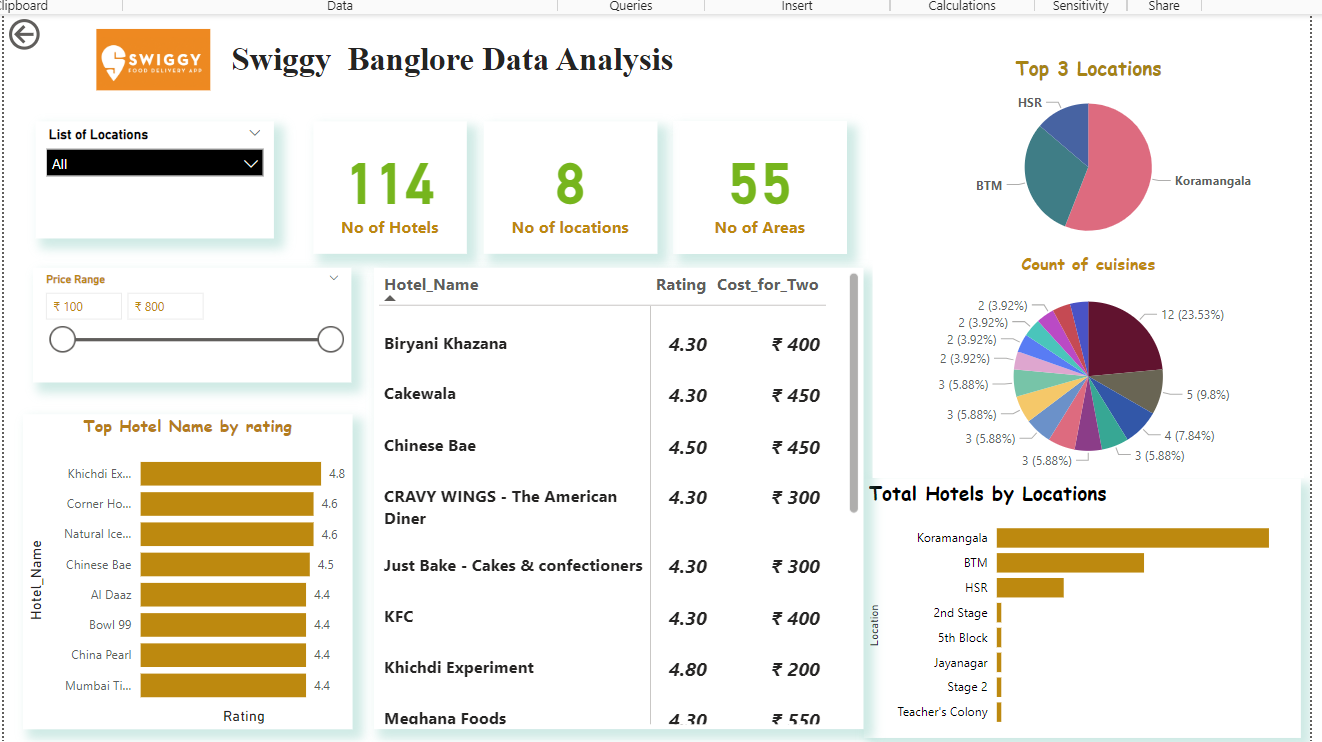

What the dashboard file says about the page in this screenshot:
{"tool":"powerbi","page":{"name":"Page 2","canvas":[1280,720],"ordinal":0},"visuals":[{"type":"card","fields":{"Values":["CountNonNull(Swiggy Bangalore Outlet Details.Hotel_Name)"]},"box":[303.2,105.1,150.4,129.6],"z":0},{"type":"card","fields":{"Values":["Count(Swiggy Bangalore Outlet Details.Location)"]},"box":[470.6,105.1,169.9,129.6],"z":1000},{"type":"card","fields":{"Values":["Count(Swiggy Bangalore Outlet Details.Area)"]},"box":[656.1,104.9,170.1,130.3],"z":2000},{"type":"slicer","fields":{"Values":["Swiggy Bangalore Outlet Details.Location"]},"box":[30.6,105.1,233.5,114.9],"z":3000},{"type":"slicer","fields":{"Values":["Swiggy Bangalore Outlet Details.Cost_for_Two"]},"box":[28.9,248.4,312.4,112.2],"z":4000},{"type":"clusteredBarChart","title":"Total Hotels by Locations","fields":{"Category":["Swiggy Bangalore Outlet Details.Location"],"Y":["CountNonNull(Swiggy Bangalore Outlet Details.Hotel_Name)"]},"box":[842.4,455.4,428.5,253.9],"z":5000},{"type":"clusteredBarChart","title":"Top Hotel Name by rating","fields":{"Category":["Swiggy Bangalore Outlet Details.Hotel_Name"],"Y":["Sum(Swiggy Bangalore Outlet Details.Rating)"]},"box":[18.1,392,323.2,308.7],"z":6000},{"type":"actionButton","box":[0,0,100,40],"z":7000},{"type":"pivotTable","fields":{"Rows":["Swiggy Bangalore Outlet Details.Hotel_Name"],"Values":["Sum(Swiggy Bangalore Outlet Details.Rating)","Sum(Swiggy Bangalore Outlet Details.Cost_for_Two)"]},"box":[363,248.4,480,452.3],"z":8000},{"type":"pieChart","title":"Count of cuisines","fields":{"Y":["CountNonNull(Swiggy Bangalore Outlet Details.Cuisine)"],"Category":["Swiggy Bangalore Outlet Details.Cuisine"]},"box":[851.5,234,423.3,220.7],"z":9000},{"type":"image","box":[76,9.6,142.3,69.9],"z":10000},{"type":"pieChart","title":"Top 3 Locations","fields":{"Y":["CountNonNull(Swiggy Bangalore Outlet Details.Area)"],"Series":["Swiggy Bangalore Outlet Details.Location"],"Category":["Swiggy Bangalore Outlet Details.Location"]},"box":[851.5,39.8,423.3,195.4],"z":11000},{"type":"textbox","box":[218.3,20.5,707.9,59.1],"z":12000}]}

Visuals, with their boxes on the page's 1280x720 design canvas (x1, y1, x2, y2). These are canvas units, not pixel positions in the 1322x742 screenshot, which may show the page scaled, cropped or inside an application window:
card - CountNonNull(Swiggy Bangalore Outlet Details.Hotel_Name): x1=303, y1=105, x2=454, y2=235
card - Count(Swiggy Bangalore Outlet Details.Location): x1=471, y1=105, x2=640, y2=235
card - Count(Swiggy Bangalore Outlet Details.Area): x1=656, y1=105, x2=826, y2=235
slicer - Swiggy Bangalore Outlet Details.Location: x1=31, y1=105, x2=264, y2=220
slicer - Swiggy Bangalore Outlet Details.Cost_for_Two: x1=29, y1=248, x2=341, y2=361
"Total Hotels by Locations" clusteredBarChart: x1=842, y1=455, x2=1271, y2=709
"Top Hotel Name by rating" clusteredBarChart: x1=18, y1=392, x2=341, y2=701
actionButton: x1=0, y1=0, x2=100, y2=40
pivotTable - Swiggy Bangalore Outlet Details.Hotel_Name x Sum(Swiggy Bangalore Outlet Details.Rating): x1=363, y1=248, x2=843, y2=701
"Count of cuisines" pieChart: x1=852, y1=234, x2=1275, y2=455
image: x1=76, y1=10, x2=218, y2=80
"Top 3 Locations" pieChart: x1=852, y1=40, x2=1275, y2=235
textbox: x1=218, y1=20, x2=926, y2=80
